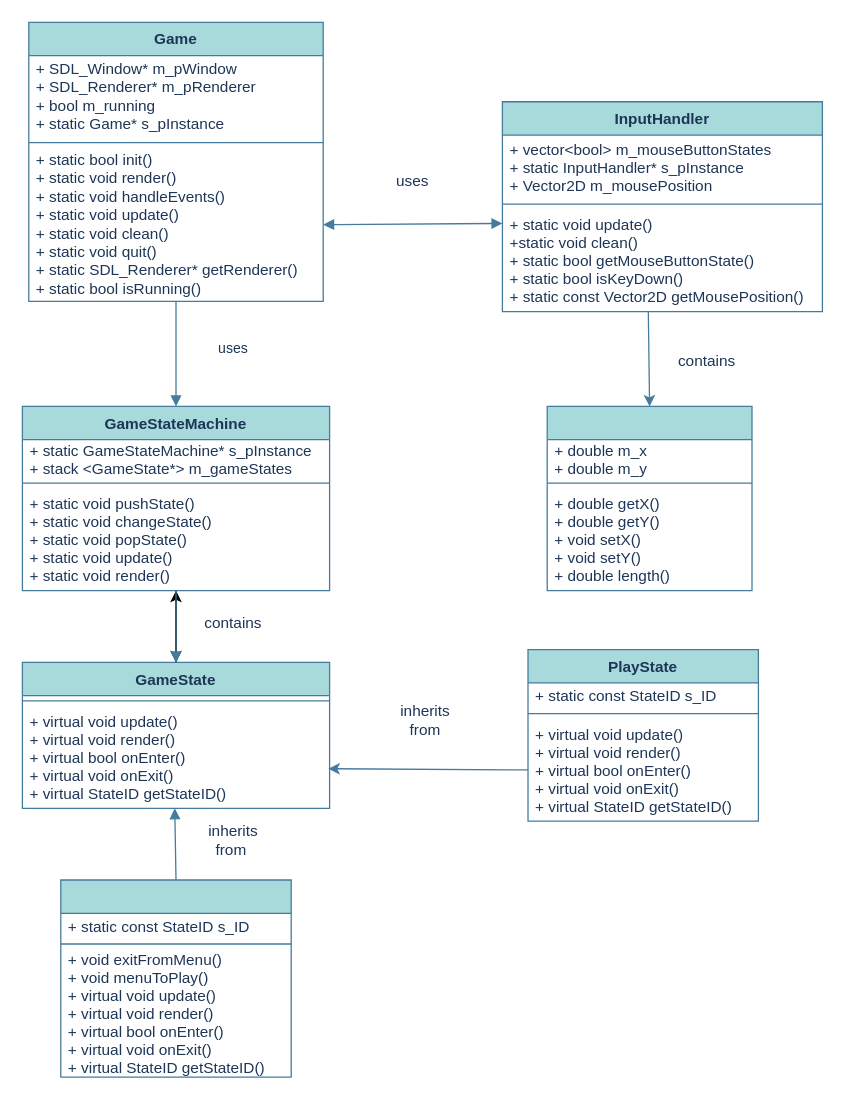
Some shapes in this 845 by 1100 pixel diagram are drawn without their labels. Here are the shapes that lost their labels. From the top down, the box of each, then its label:
(546, 405, 752, 591): Vector2D
(60, 879, 291, 1077): MenuState
